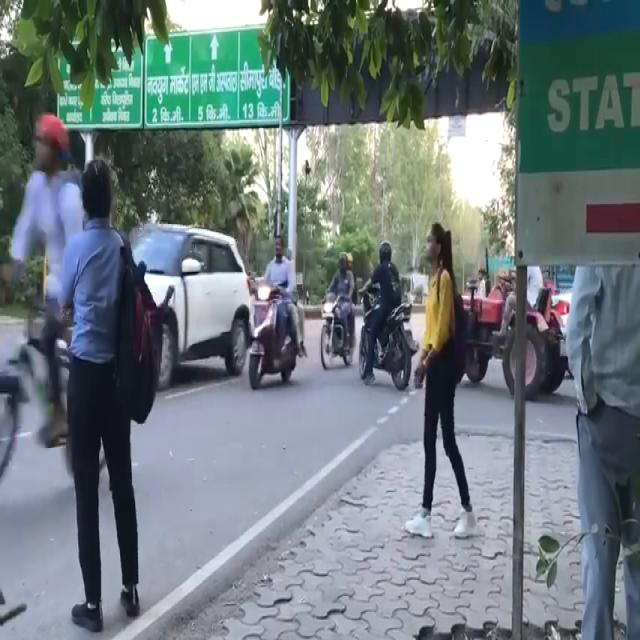MOTORCYCLE: (245, 282, 304, 392), (357, 283, 414, 385), (322, 297, 356, 370)
